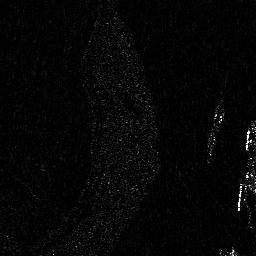ship: (207, 97, 224, 160)
